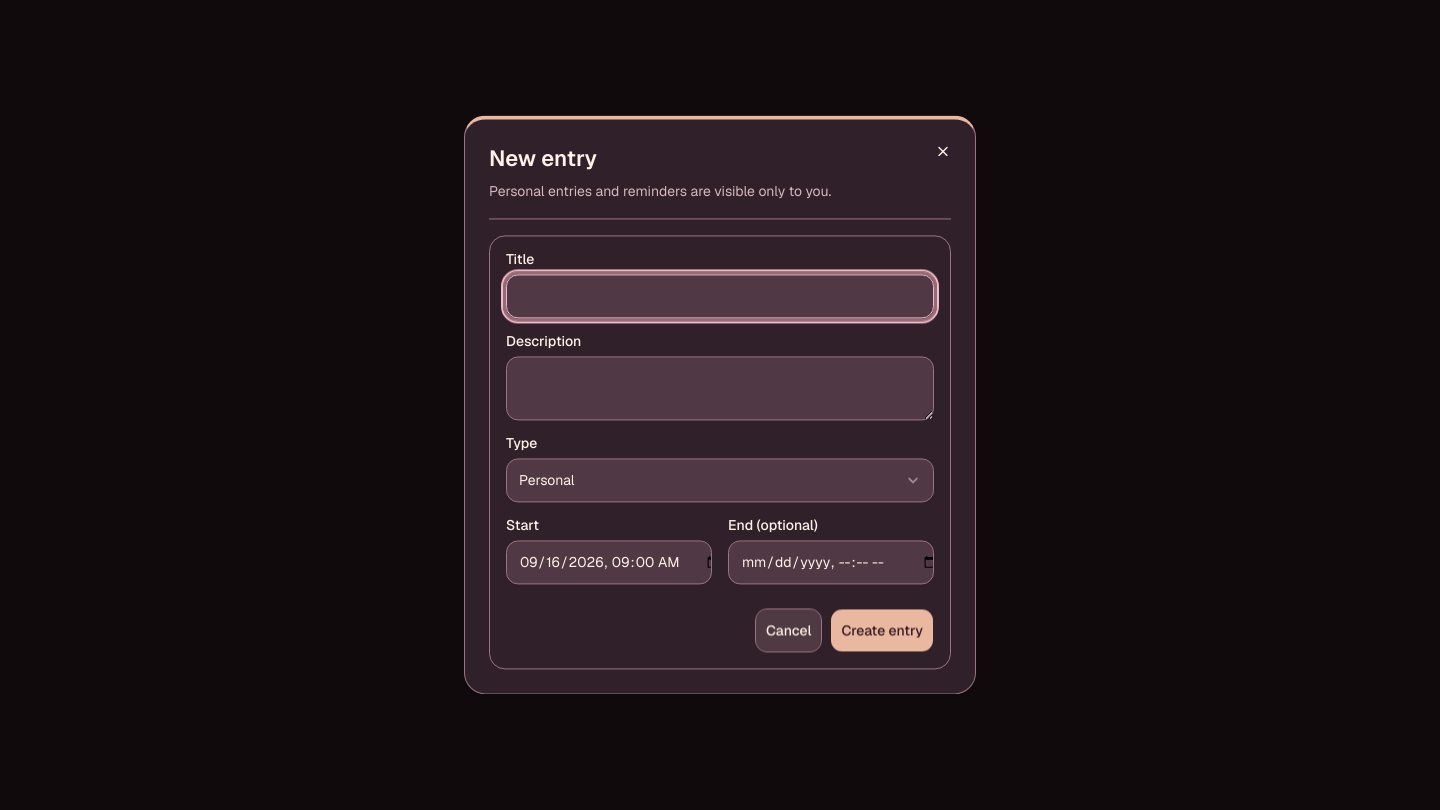
Test: EntryDialog › rejects an end time before the start
In the field labelled "Title": (720, 297) [506, 275, 934, 319], type "Team sync"
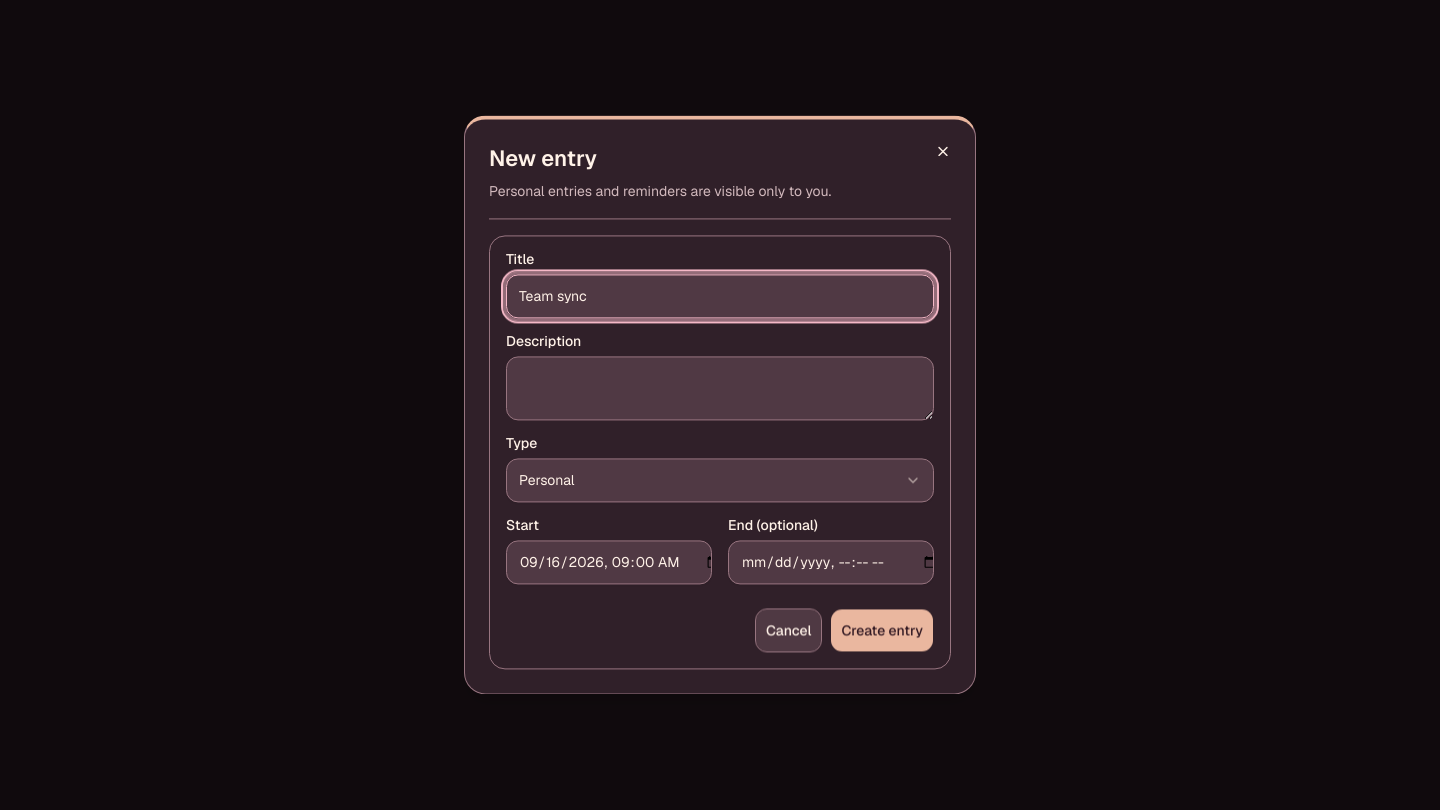
Replace the text in the field labelled "Start" with "2026-09-16T10:00": (609, 563) [506, 541, 712, 585]
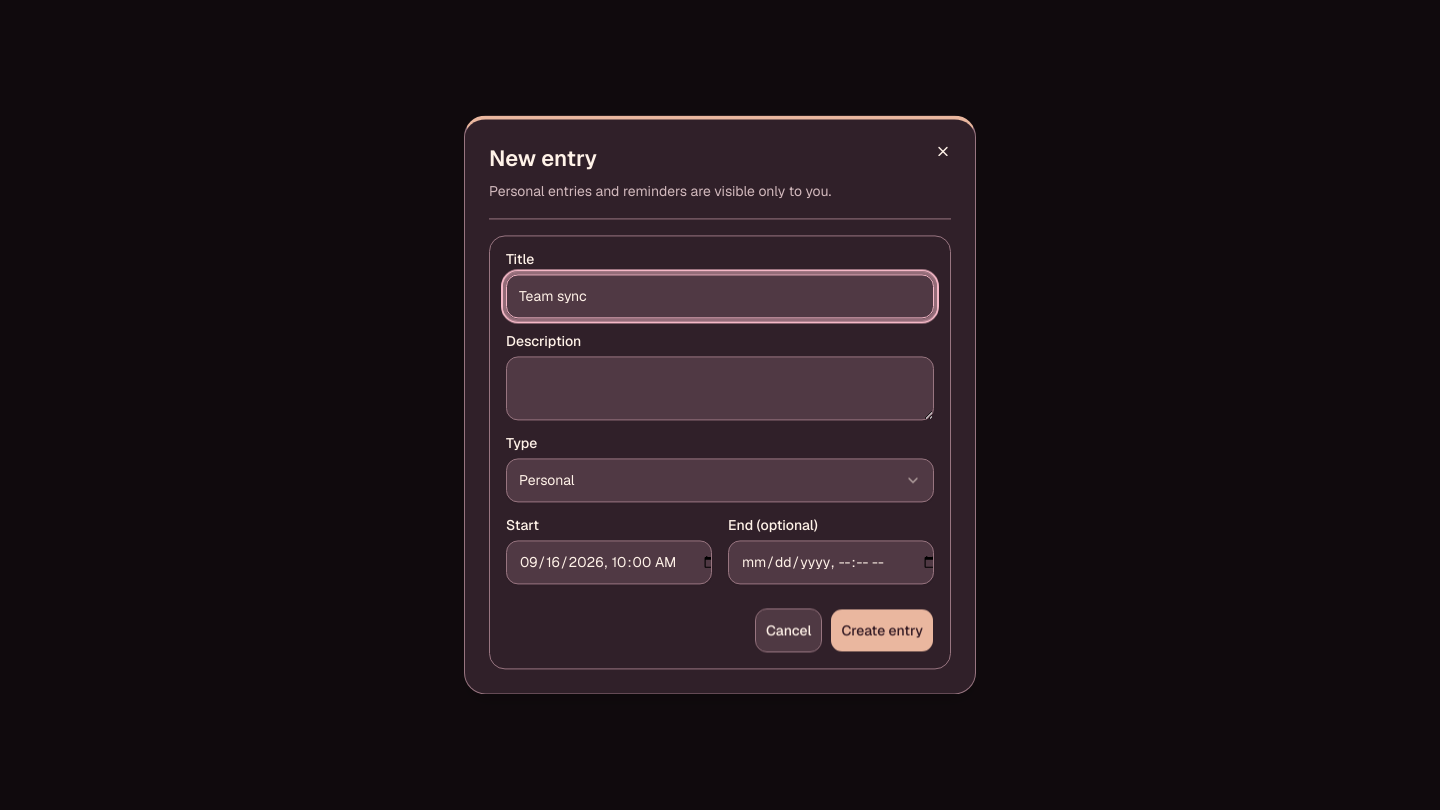
In the field labelled "End (optional)": (831, 563) [728, 541, 934, 585], type "2026-09-16T09:00"
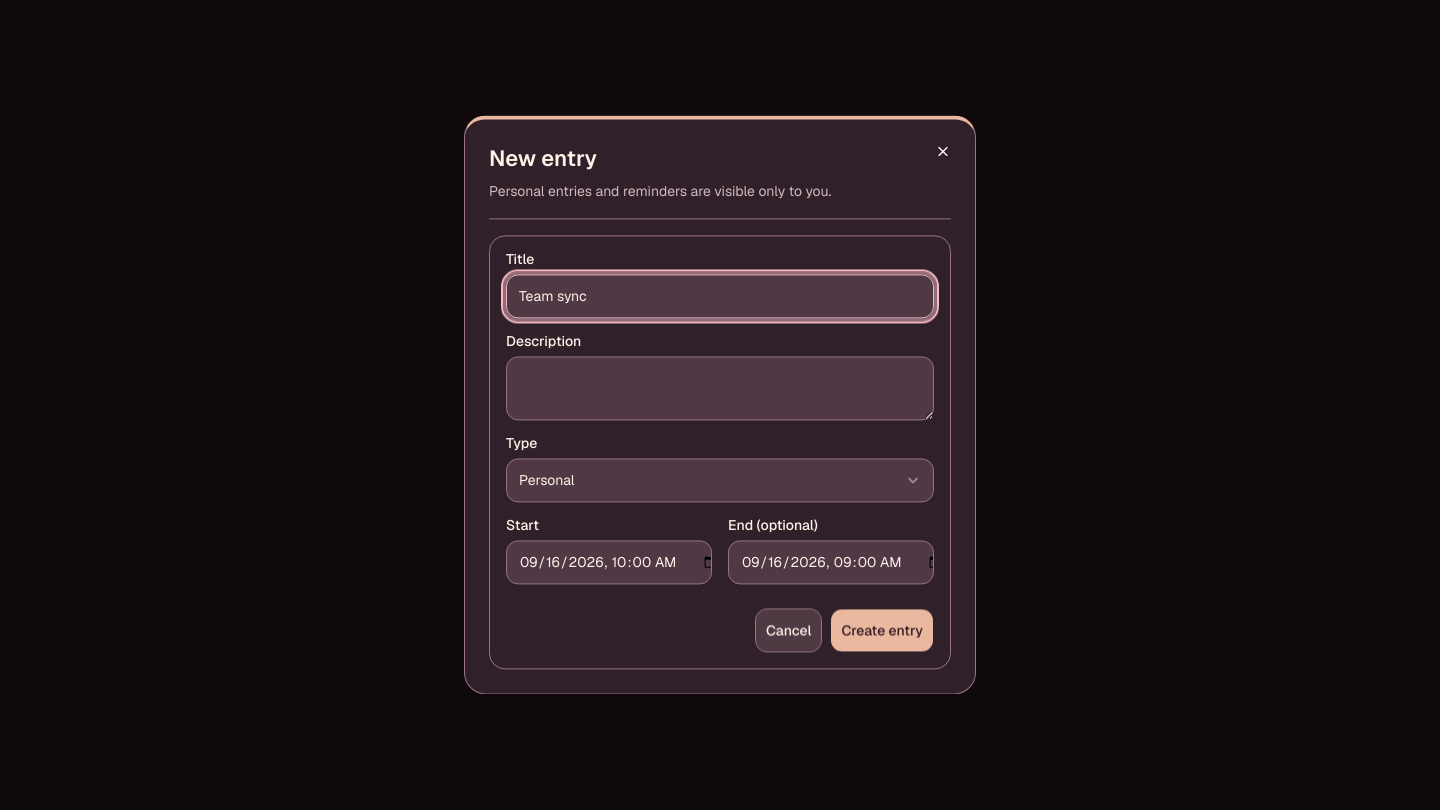
Click the button "Create entry": click(882, 631) [830, 609, 934, 653]
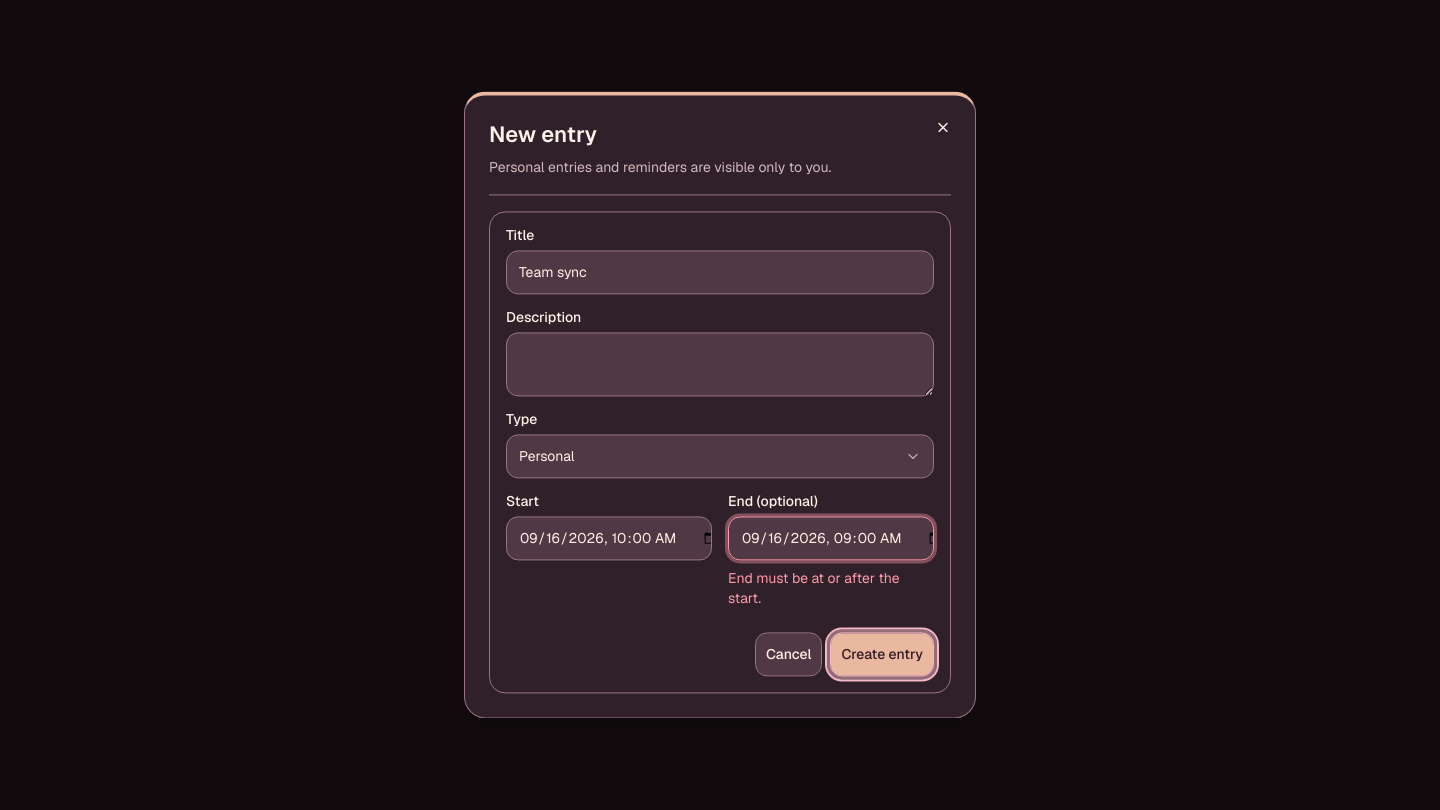
Result: the text "End must be at or after the start." is shown at [728, 570, 900, 608]
